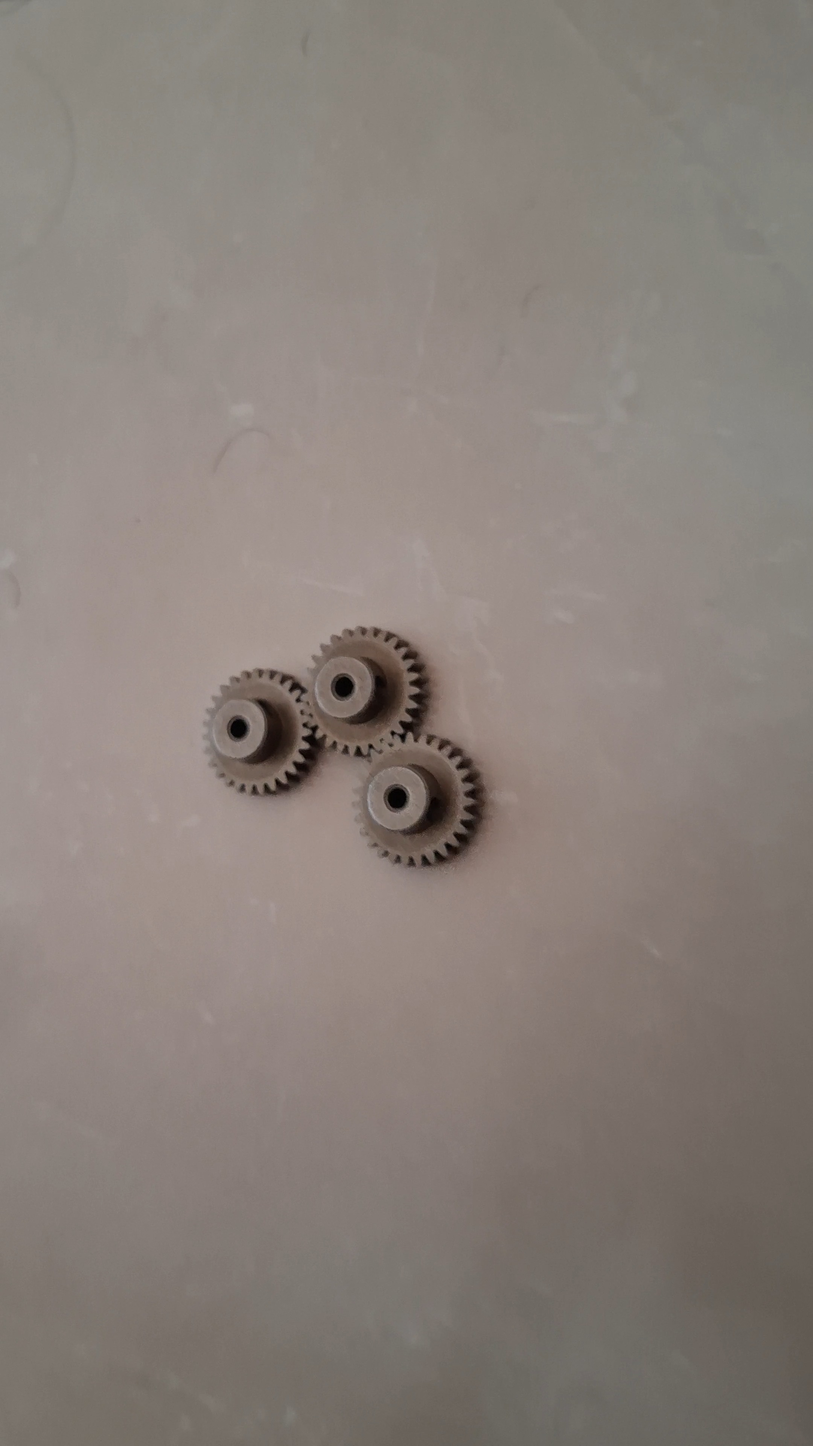spur gear: (358, 735, 481, 866), (308, 627, 425, 756), (205, 669, 315, 795)
